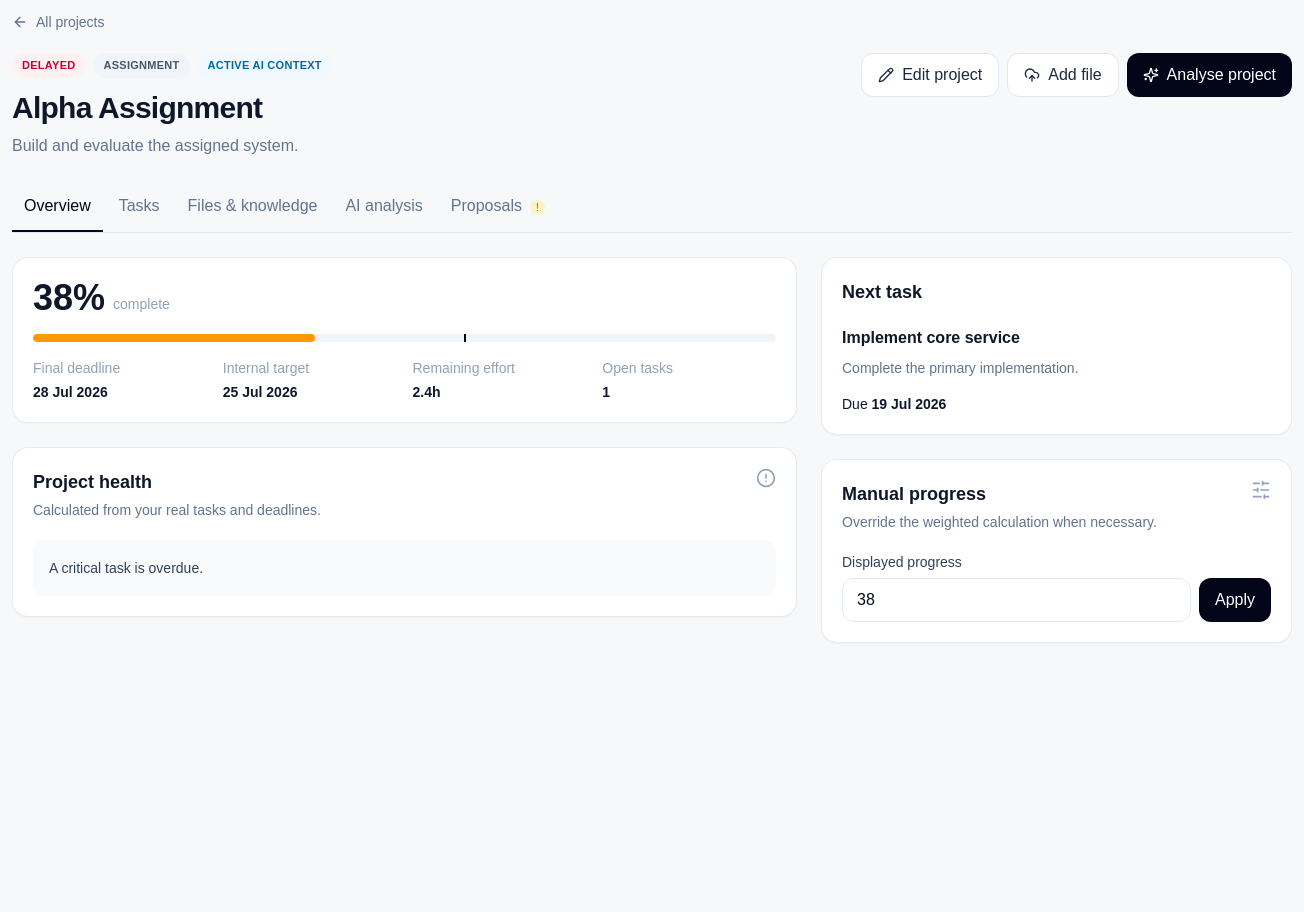
Project workflows › persists a manual progress override and removal
Replace the text in the number field labelled "Displayed progress" with "44" at (1016, 600), box [842,578,1191,622]
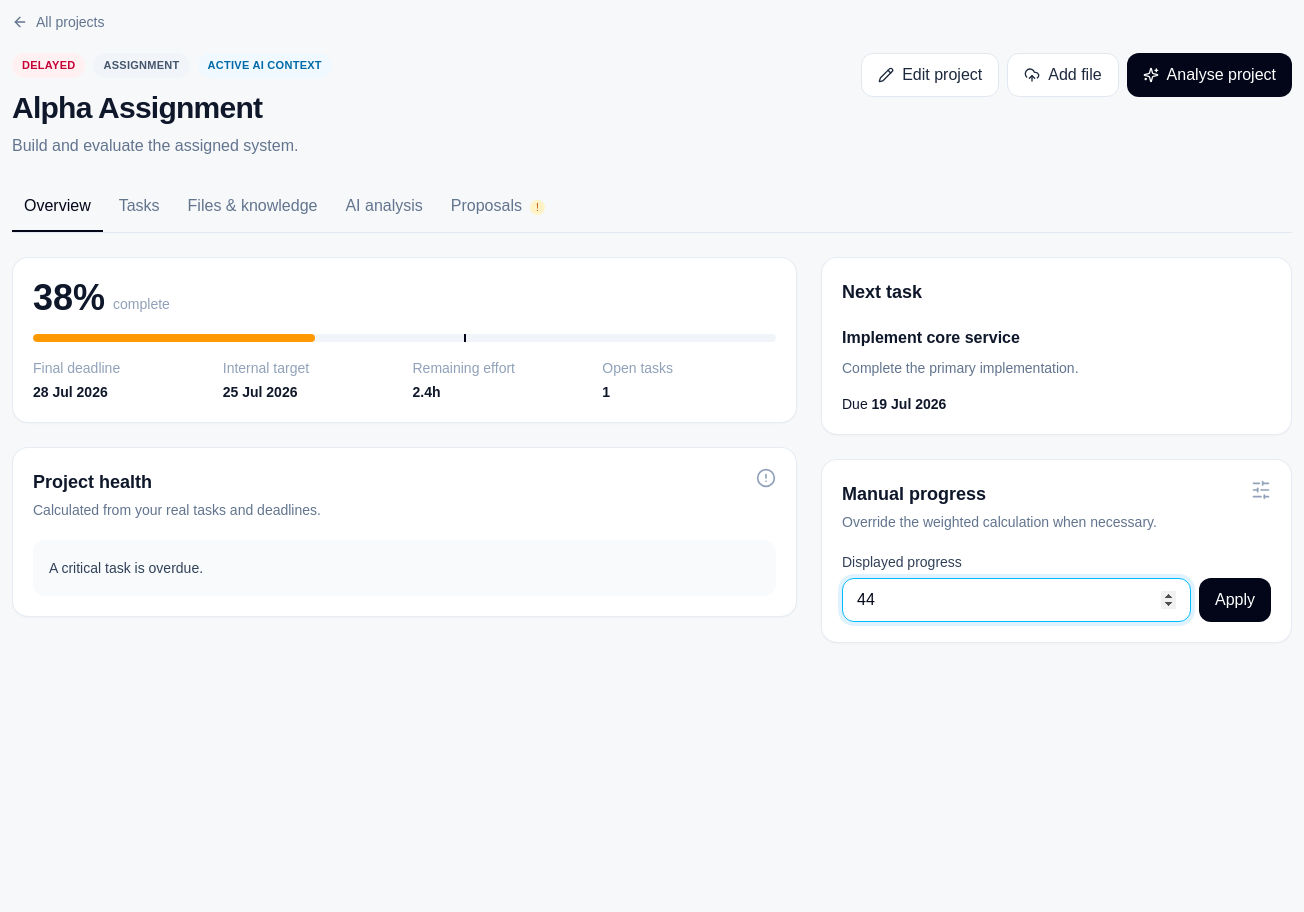
Click the button "Apply" at (1235, 600), box [1199,578,1271,622]
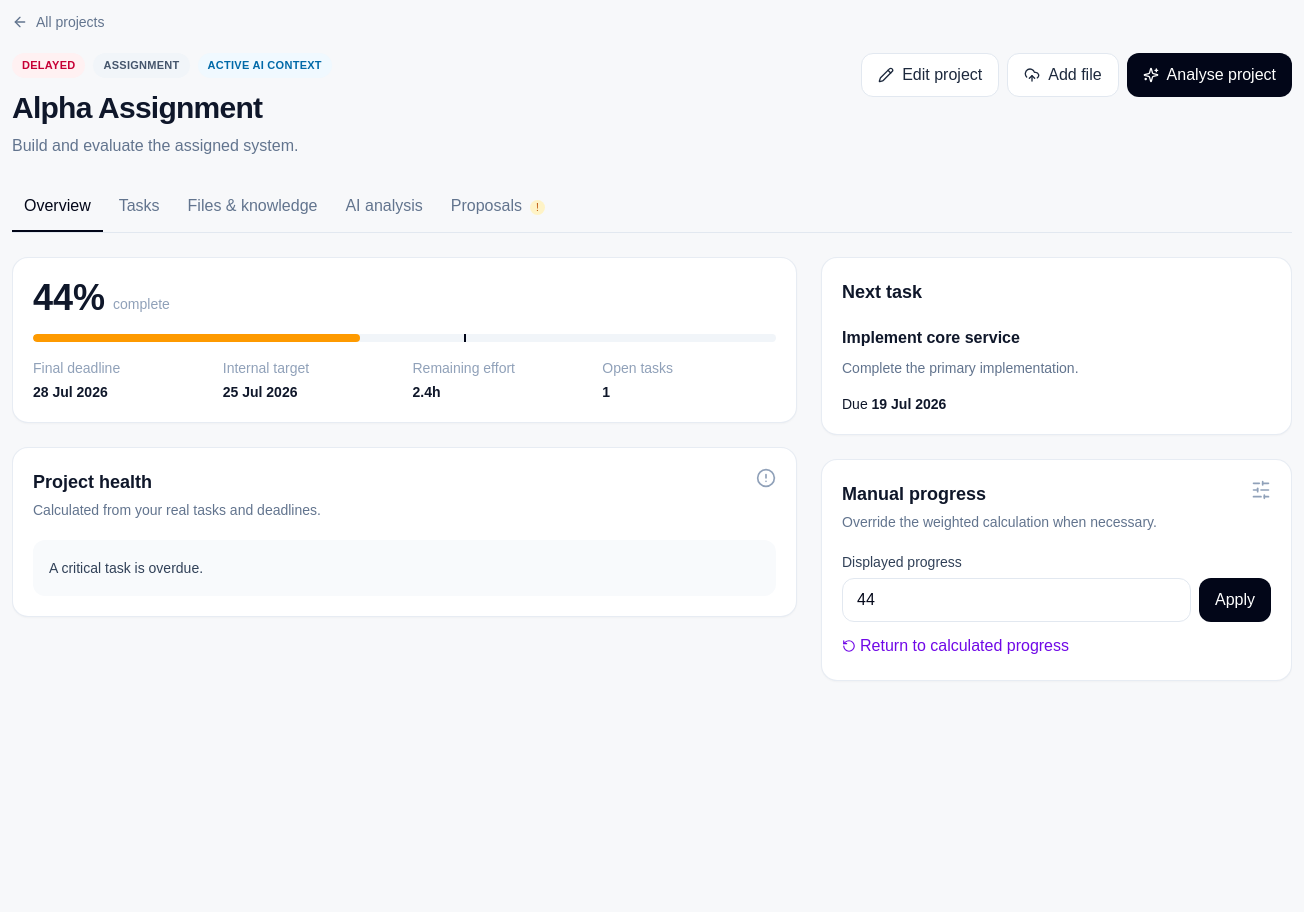
Now the button "Return to calculated progress" is shown
Click the button "Return to calculated progress" at (956, 646), box [842,634,1069,658]
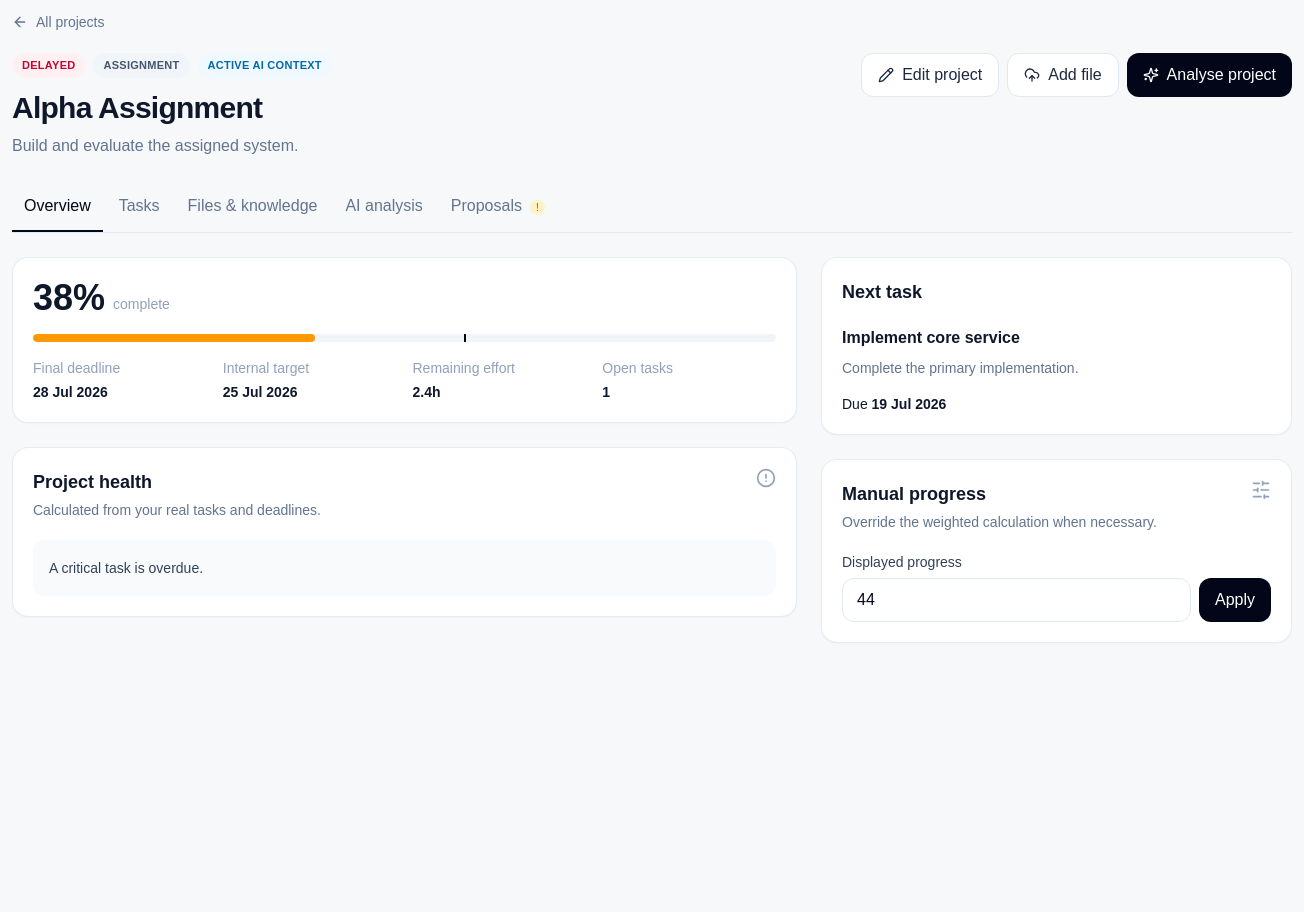
Now the button "Return to calculated progress" is gone
